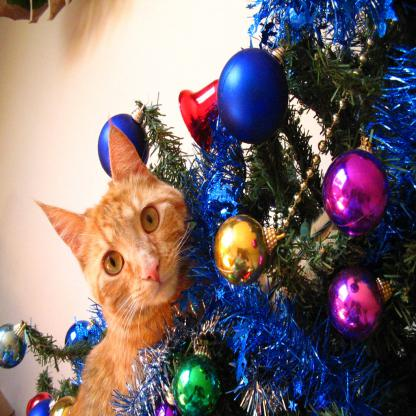Ball: (217, 46, 290, 144), (323, 148, 390, 232), (212, 213, 270, 287), (329, 268, 383, 339), (96, 113, 151, 176), (170, 354, 221, 415), (0, 323, 29, 370), (66, 319, 89, 363)
